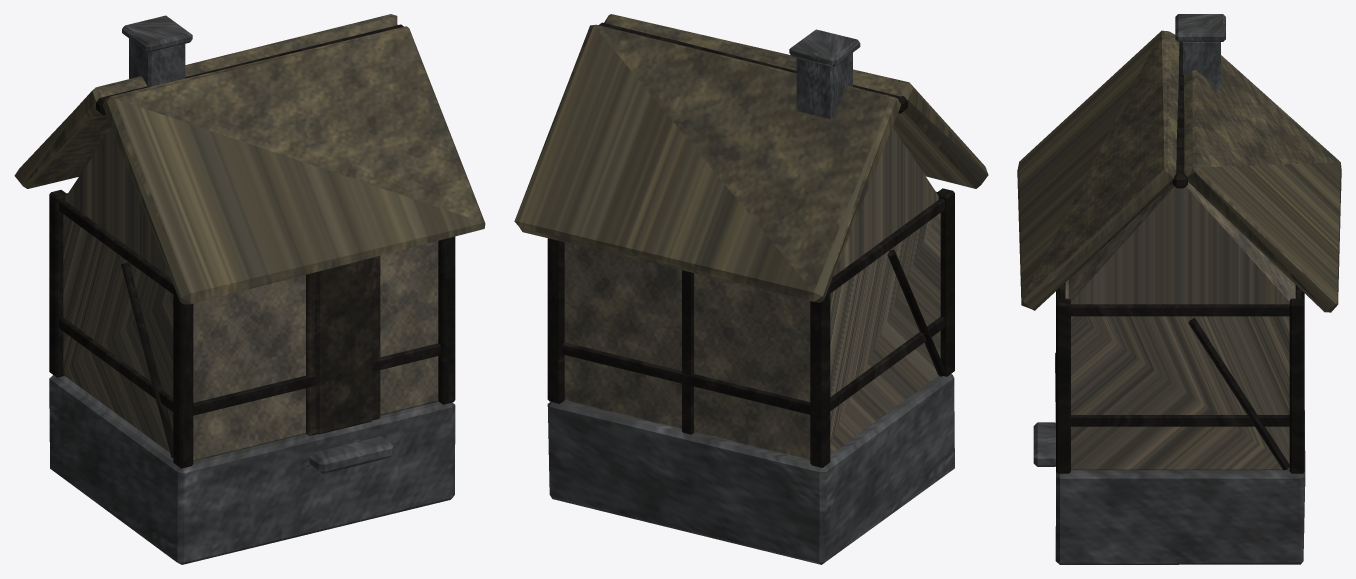
File: hovel.glb
3 views of the same model, side by side, from view 1: azimuth 30°, elevation 25°; view 2: azimuth 150°, elevation 25°; view 3: azimuth 270°, elevation 25° (orthographic). The views are drawn at different scales.
Visible parts, largest first — view 1: hovel; view 2: hovel; view 3: hovel.
Boxes of the visible parts, left/top/right/bottom form: hovel: left=14, top=14, right=485, bottom=564; hovel: left=514, top=14, right=988, bottom=564; hovel: left=1017, top=14, right=1341, bottom=564.
Bounding box in the file's own units: 2.58 × 3.74 × 2.49.
Materials: 2 (2 with a texture image).
